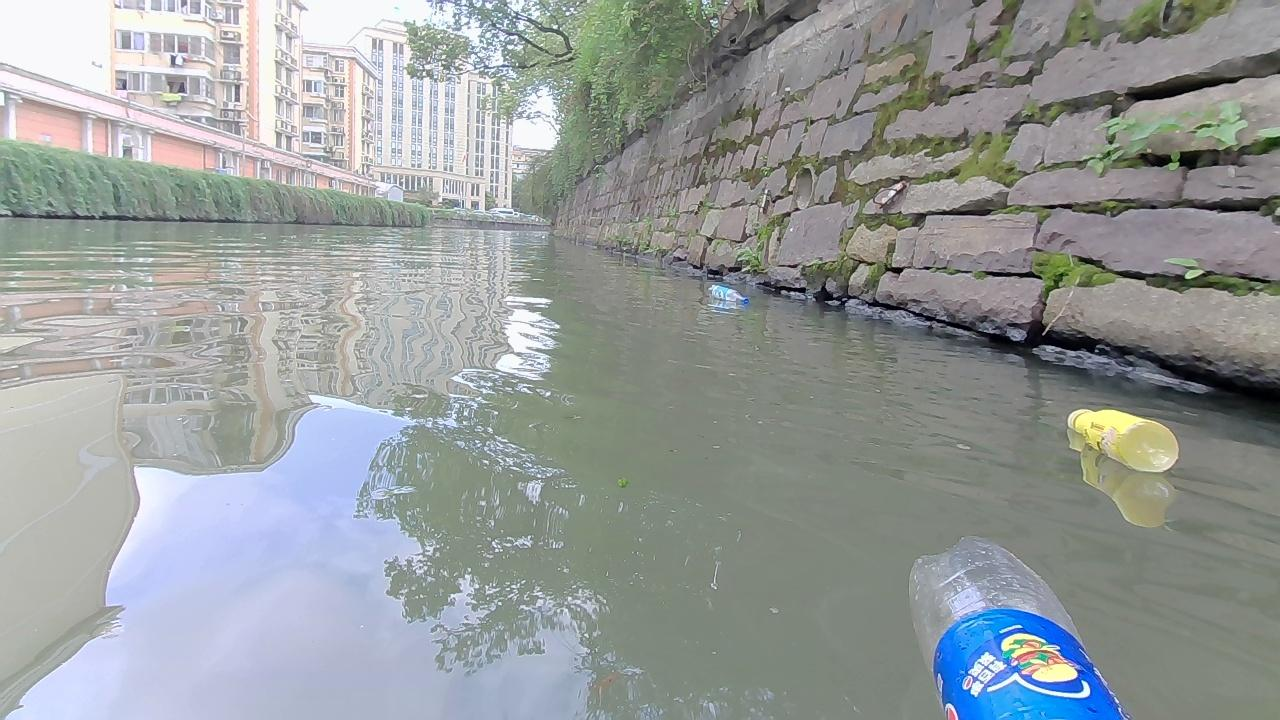bottle: (909, 534, 1132, 719), (1067, 406, 1180, 471), (708, 283, 748, 303)
